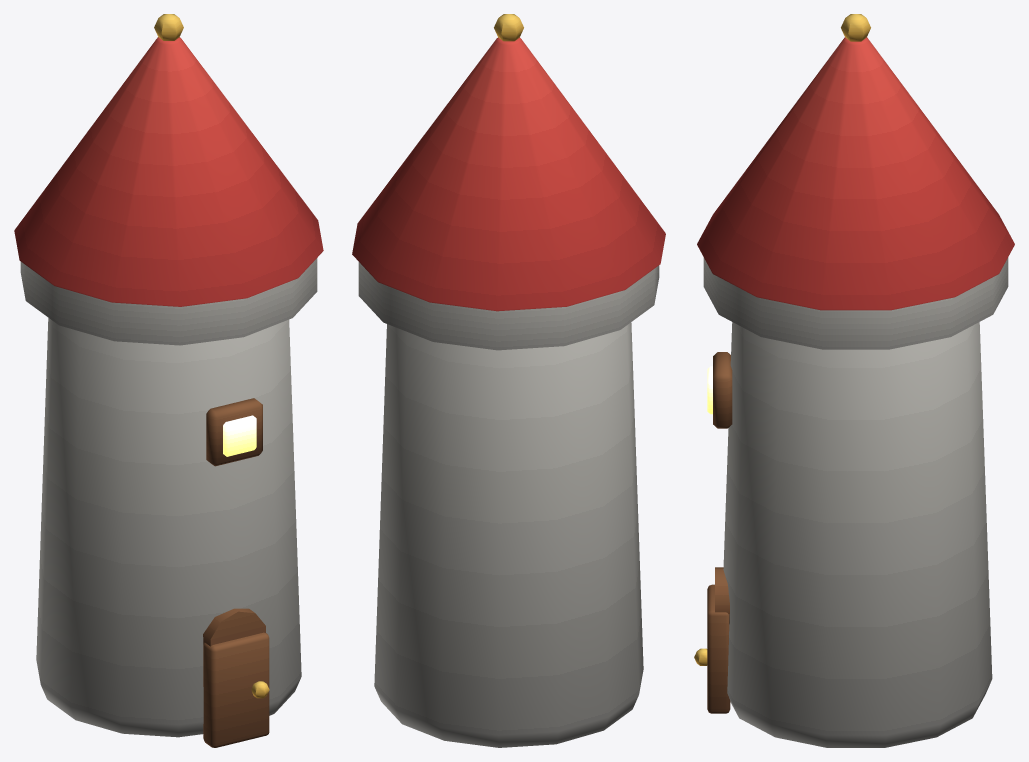
The model's file is towerA.glb.
3 views of the same model, side by side, from view 1: azimuth 30°, elevation 25°; view 2: azimuth 150°, elevation 25°; view 3: azimuth 270°, elevation 25° (orthographic).
Visible parts, largest first — view 1: towerA; view 2: towerA; view 3: towerA.
Part boxes in pixels (left/top/right/bottom): towerA: left=14, top=14, right=323, bottom=747; towerA: left=352, top=14, right=665, bottom=747; towerA: left=694, top=14, right=1014, bottom=747.
Bounding box in the file's own units: 0.8135 × 1.99 × 0.8422.
1 material, 1 textured.
